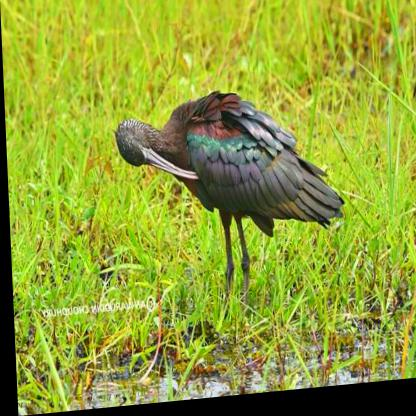Burung: (111, 88, 346, 338)
